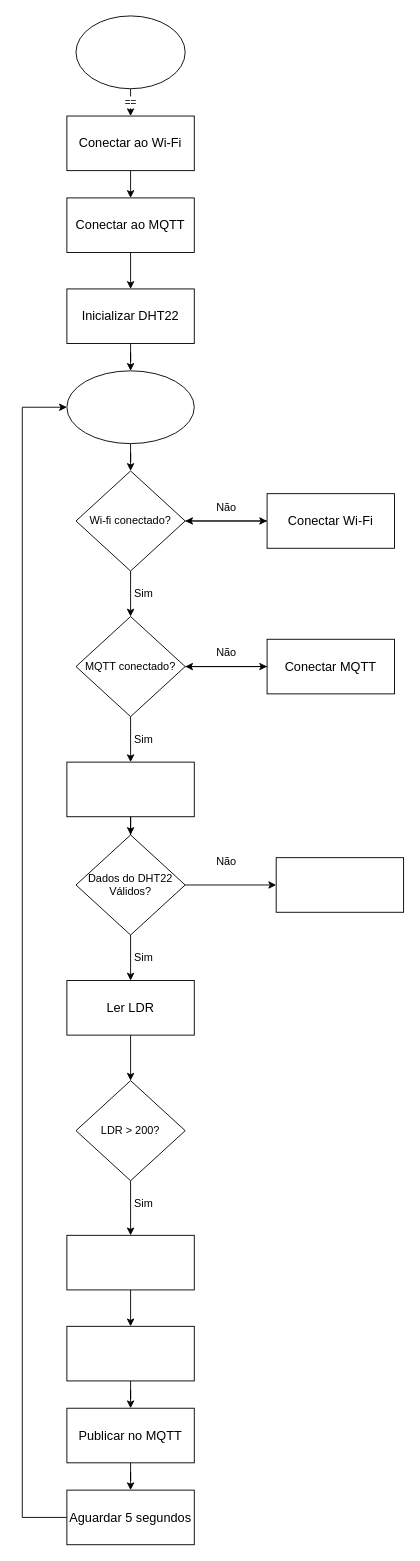
Image size: 420x1561. Some labels were removed from this diagram. Here are the shapes that lost their labels. From the top down, the centre of each, then its label:
At (x=130, y=52): "Inicio".
At (x=130, y=407): "Inicio do loop".
At (x=130, y=789): "Ler DHT22".
At (x=339, y=884): "Mostrar erro no Serial".
At (x=130, y=1262): "Mostrar dados do DHT22 na serial".
At (x=130, y=1353): "Criar JSON".
